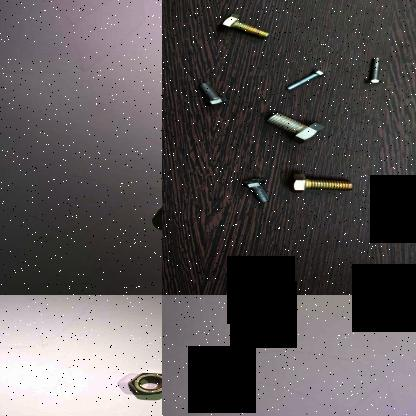Bolts: (260, 112, 326, 146), (283, 170, 361, 198), (217, 12, 272, 42), (235, 172, 275, 208), (282, 66, 326, 94), (192, 80, 232, 110), (362, 54, 384, 89)
NUTS: (118, 363, 162, 399)
